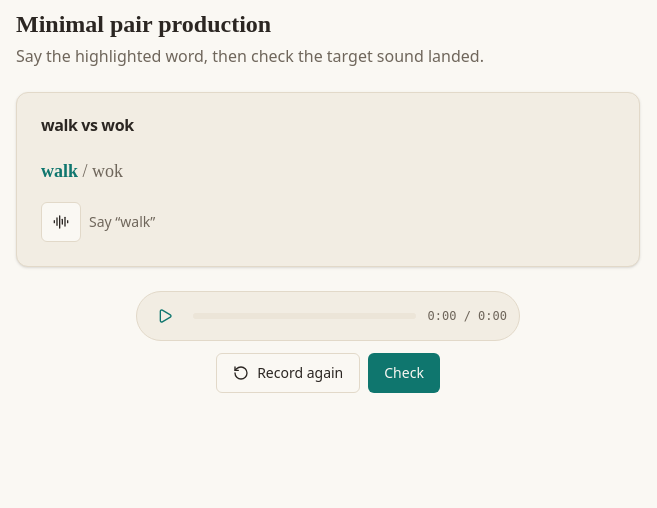
Test: ProductionDrill › should show a retry verdict when the target phoneme is flagged
Click the button "Check" at (404, 373), box [368,353,440,393]
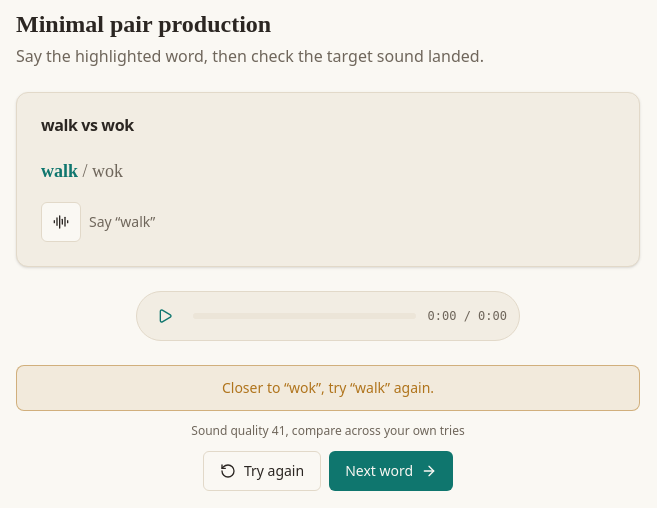
Check: the message shows "try", box [316,378,355,397]
